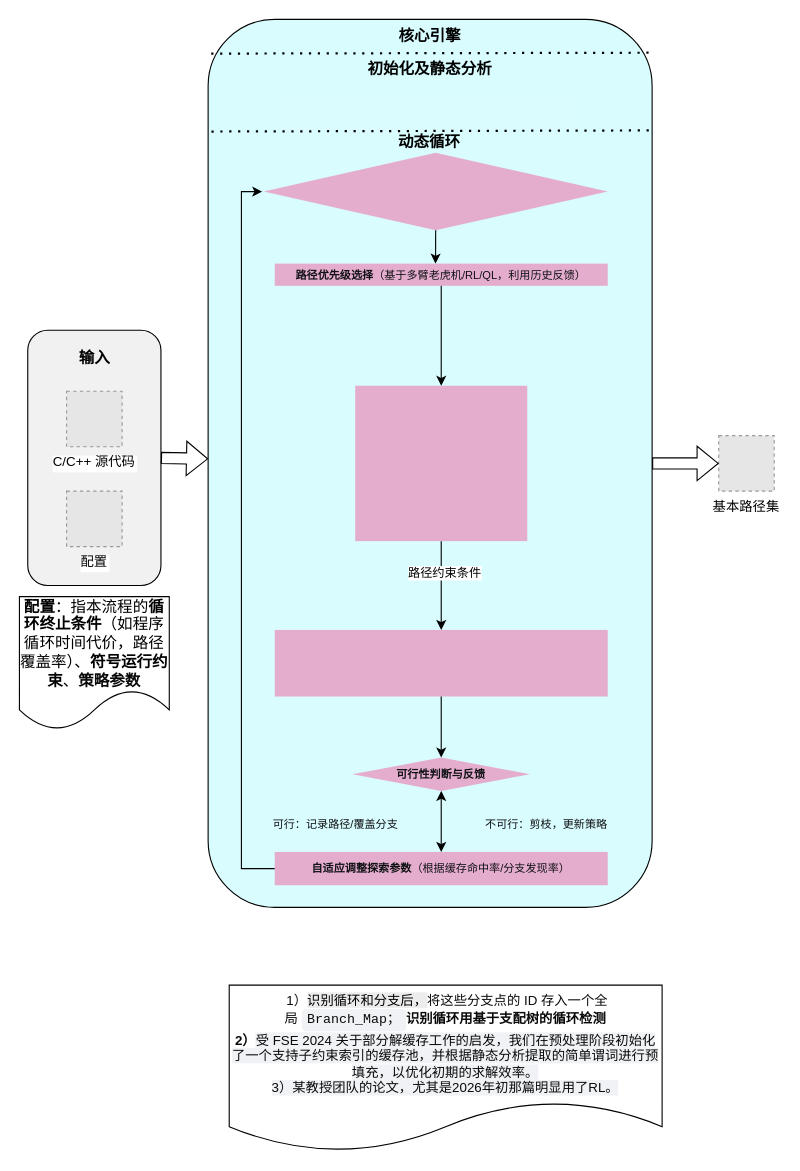
Image size: 800x1171. Some labels were removed from this diagram. Grey dashed boxes stand in for pictures. The shapes that lost their labels are listed below. From the top down, each one's centre as x and y in pixels, then its label:
At pixel 428 113: "CFG：利用LLVM框架 识别循环和分支：用LLVM框架分析基本块 初始化约束：求解器缓存池".
At pixel 435 191: "终止条件：时间预算（TimeBudget）小于一定值".
At pixel 440 463: "混合执行 （符号执行+具体执行） 具体状态（实际值） 符号状态（表达式） Loop Inferencer".
At pixel 441 663: "约束求解与部分解缓存 缓存池领取 Z3 Solving Conflict Learning".
